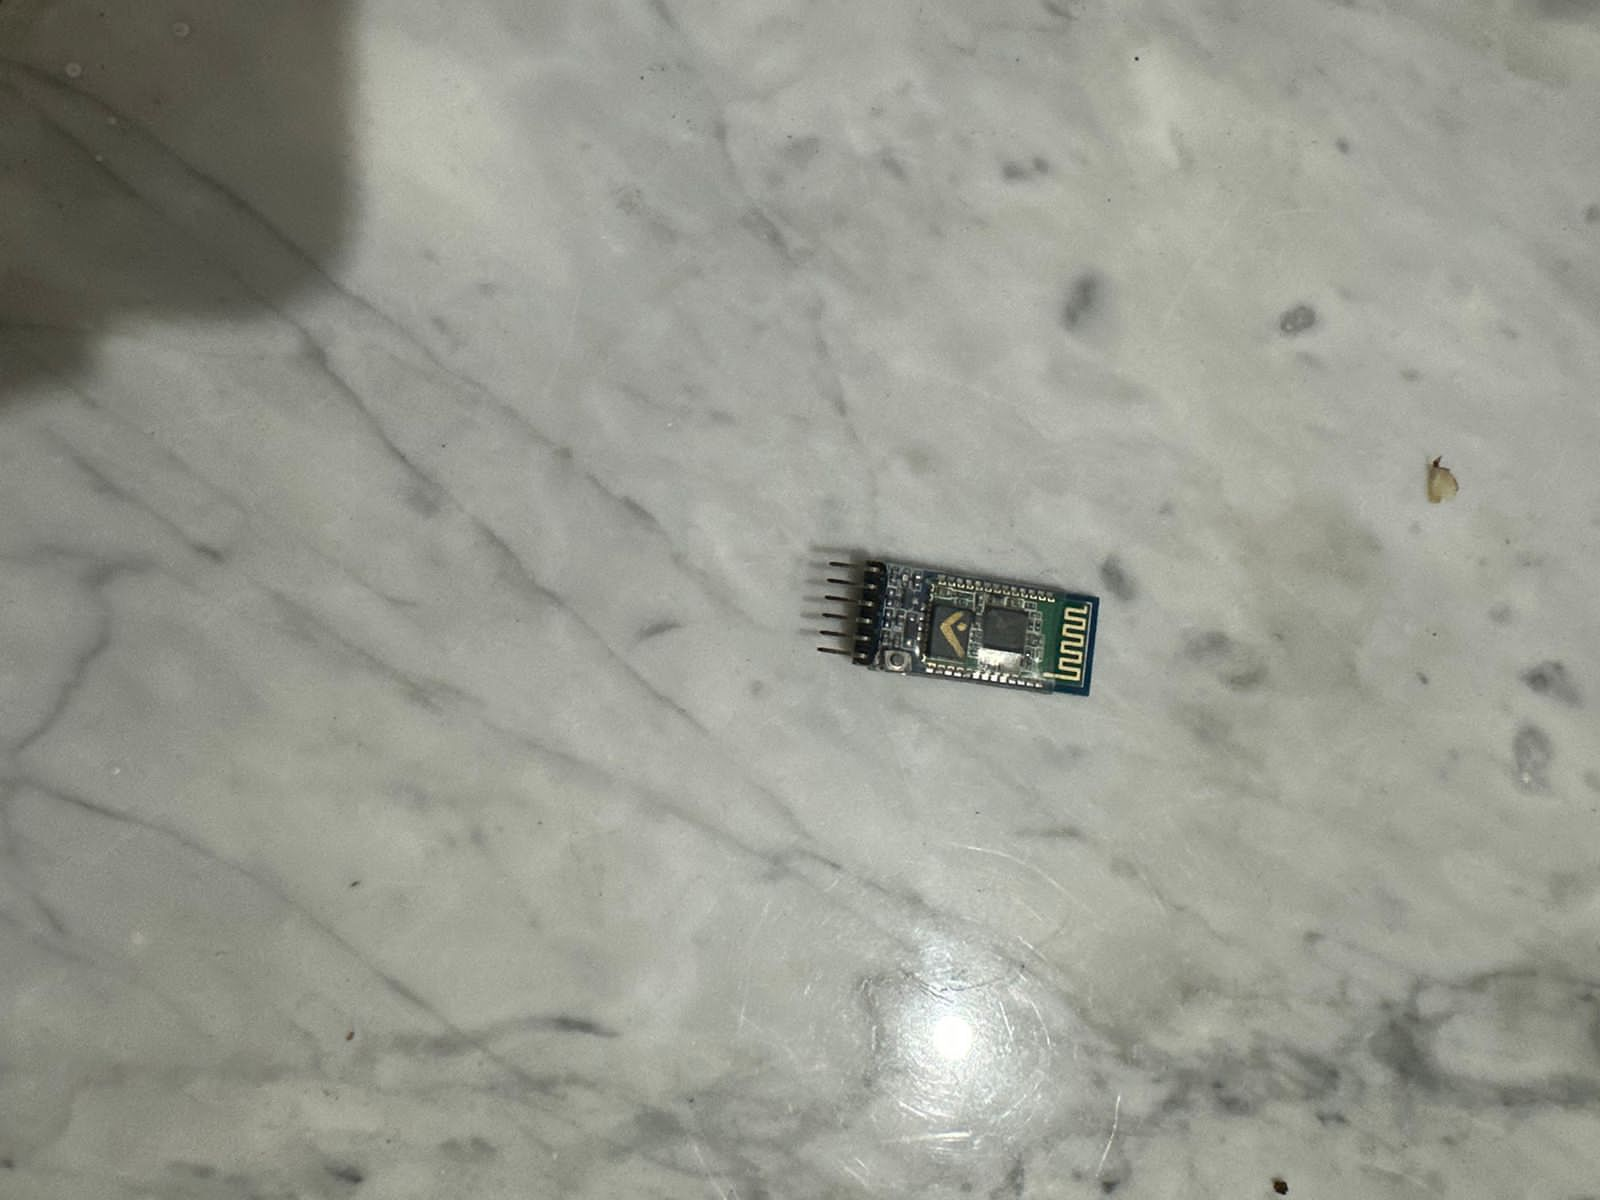module-bluetooth: (805, 543, 1111, 702)
